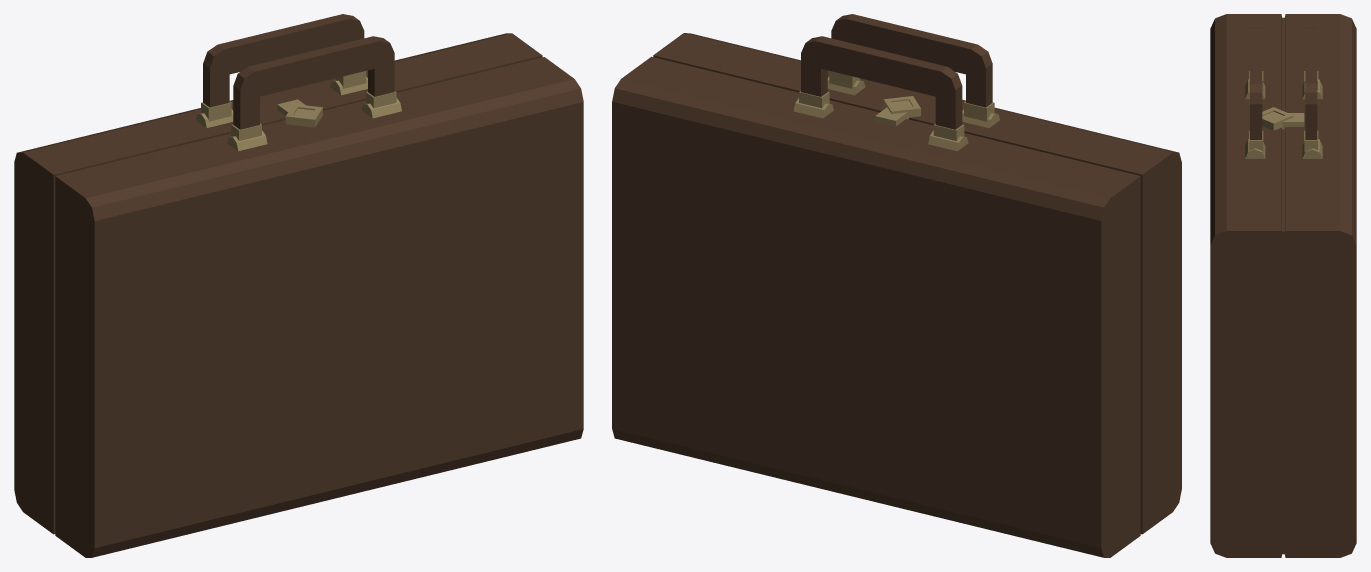
The model's file is briefcase-v1.glb.
3 renders of one model, left to right at view 1: azimuth 30°, elevation 25°; view 2: azimuth 150°, elevation 25°; view 3: azimuth 270°, elevation 25°, orthographic. The views are drawn at different scales.
Visible parts, largest first — view 1: Briefcase_Cube.029; view 2: Briefcase_Cube.029; view 3: Briefcase_Cube.029.
Part boxes in pixels (x1=…): Briefcase_Cube.029: x1=14, y1=14, x2=583, y2=557; Briefcase_Cube.029: x1=612, y1=14, x2=1181, y2=557; Briefcase_Cube.029: x1=1210, y1=14, x2=1356, y2=557.
Bounding box in the file's own units: 1 × 0.8638 × 0.2849.
